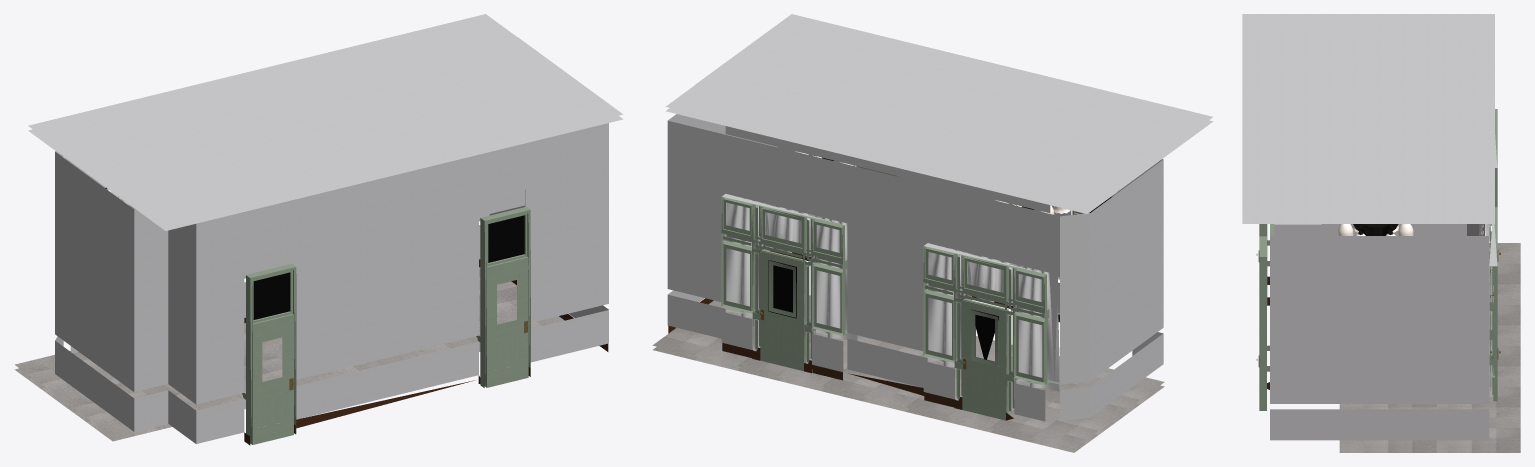
Rendered from office.glb.
The picture shows the model from 3 angles, left to right: view 1: azimuth 30°, elevation 25°; view 2: azimuth 150°, elevation 25°; view 3: azimuth 270°, elevation 25°; orthographic projection. The views are drawn at different scales.
Parts seen in each view (by area): view 1: Object_4, Object_11, Object_10, Object_13, Object_12; view 2: Object_4, Object_11, Object_10, Object_8, Object_13, Object_12; view 3: Object_4, Object_10, Object_11, Object_5, Object_6.
Part boxes in pixels (<box>): Object_4: <box>28,14,623,443</box>; Object_11: <box>118,196,530,445</box>; Object_10: <box>14,258,564,441</box>; Object_13: <box>253,215,524,319</box>; Object_12: <box>244,259,608,445</box>; Object_4: <box>665,14,1213,421</box>; Object_11: <box>721,166,1113,420</box>; Object_10: <box>652,295,1164,452</box>; Object_8: <box>725,195,1059,391</box>; Object_13: <box>768,196,1111,359</box>; Object_12: <box>668,248,1059,420</box>; Object_4: <box>1242,14,1497,440</box>; Object_10: <box>1339,243,1520,452</box>; Object_11: <box>1259,109,1497,410</box>; Object_5: <box>1353,224,1398,235</box>; Object_6: <box>1338,224,1413,235</box>.
Bounding box in the file's own units: 9.85 × 5.21 × 5.63.
Materials: 10 (8 with a texture image).
